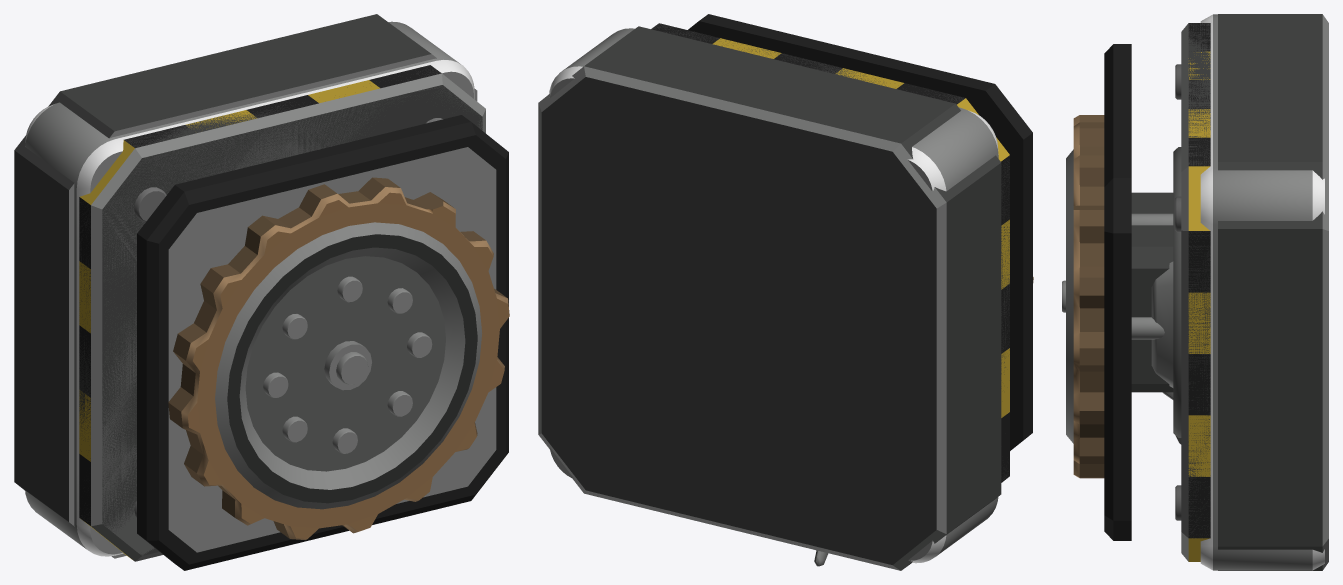
The model's file is Parts_Electric.glb.
3 views of the same model, side by side, from view 1: azimuth 30°, elevation 25°; view 2: azimuth 150°, elevation 25°; view 3: azimuth 270°, elevation 25° (orthographic). The views are drawn at different scales.
Visible parts, largest first — view 1: Decoupler__0, RotationJoint__1, RotationJoint__0, TempratureFan__0; view 2: Decoupler__0, RotationJoint__0, TempratureFan__0; view 3: Decoupler__0, RotationJoint__0, RotationJoint__1, TempratureFan__0, BigBatteries__0.
Boxes of the visible parts, x1,y1,x2,y2 form: Decoupler__0: [14, 14, 508, 570]; RotationJoint__1: [168, 177, 509, 539]; RotationJoint__0: [14, 14, 485, 561]; TempratureFan__0: [25, 21, 474, 556]; Decoupler__0: [538, 14, 1032, 570]; RotationJoint__0: [538, 23, 1009, 570]; TempratureFan__0: [549, 28, 998, 563]; Decoupler__0: [1104, 14, 1328, 570]; RotationJoint__0: [1173, 14, 1328, 570]; RotationJoint__1: [1062, 115, 1173, 478]; TempratureFan__0: [1200, 14, 1324, 570]; BigBatteries__0: [1151, 261, 1173, 387].
Size of the model in its own units: 2.07 by 2.27 by 1.22.
12 materials, 11 textured.
